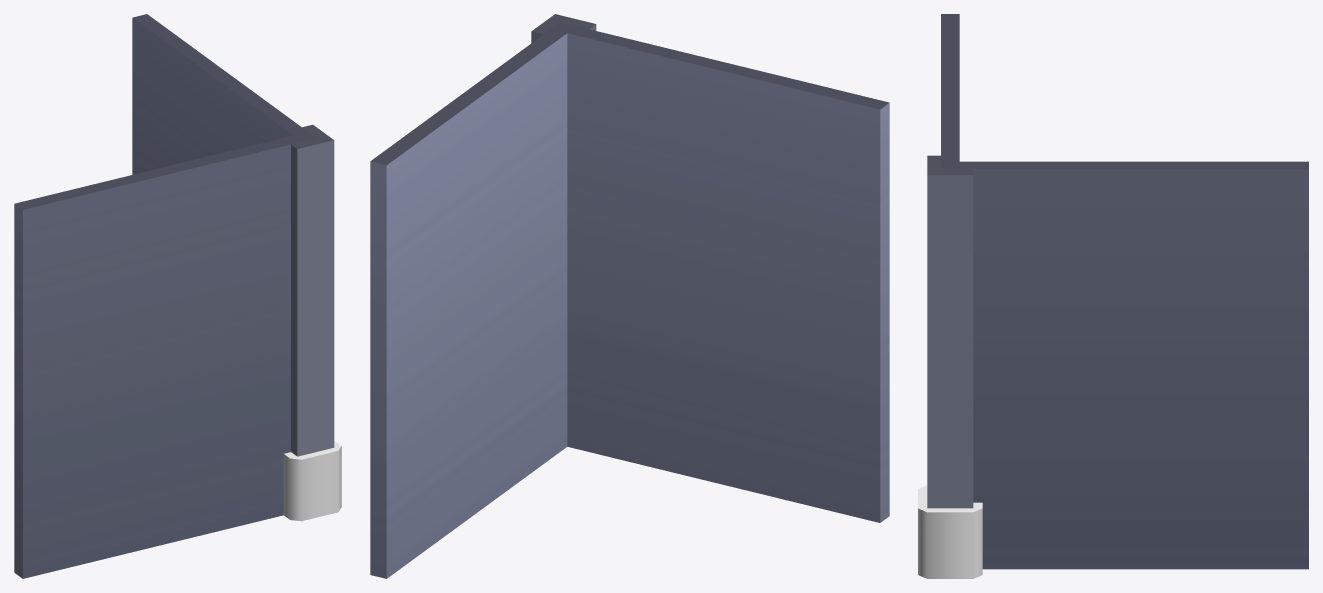
The model's file is building_wall_corner_column_b.glb.
The picture shows the model from 3 angles, left to right: view 1: azimuth 30°, elevation 25°; view 2: azimuth 150°, elevation 25°; view 3: azimuth 270°, elevation 25°; orthographic projection. The views are drawn at different scales.
Visible parts, largest first — view 1: wall-corner-column-bottom; view 2: wall-corner-column-bottom; view 3: wall-corner-column-bottom.
Part boxes in pixels (box(x1,y1,x2,y2)): wall-corner-column-bottom: box(14, 14, 341, 578); wall-corner-column-bottom: box(370, 14, 889, 578); wall-corner-column-bottom: box(918, 14, 1308, 578).
Size of the model in its own units: 2.12 by 2.4 by 2.13.
Materials: 1 (1 with a texture image).
